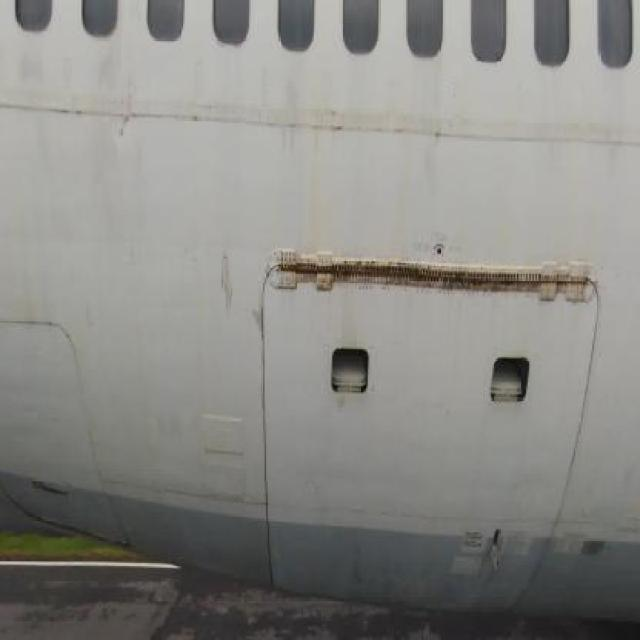Rust: (273, 246, 598, 319), (305, 159, 327, 244), (216, 248, 239, 322)
Scartch: (250, 293, 268, 409)
